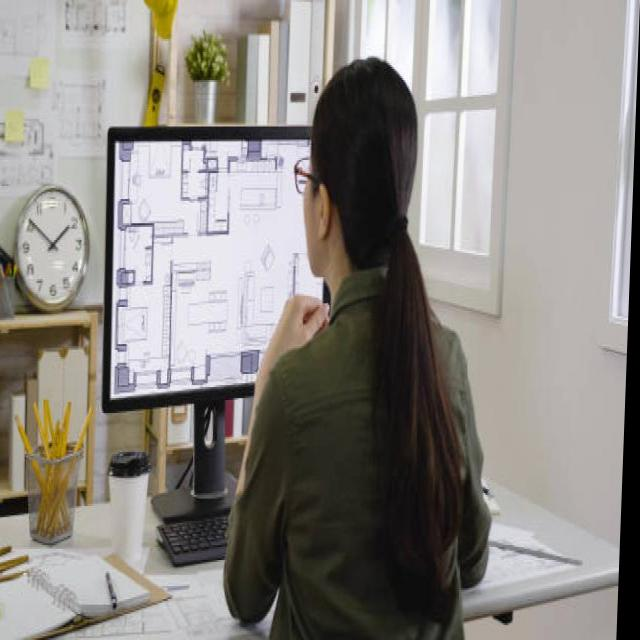no helmet: (305, 54, 430, 330)
